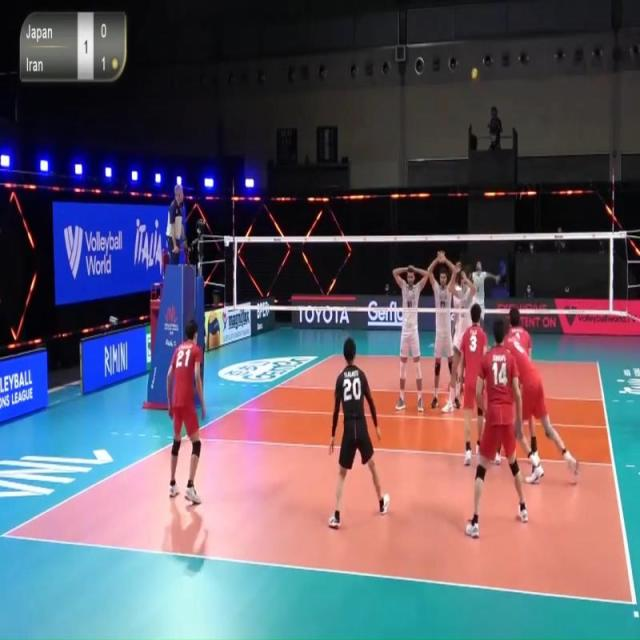volleyball: (468, 63, 479, 84)
